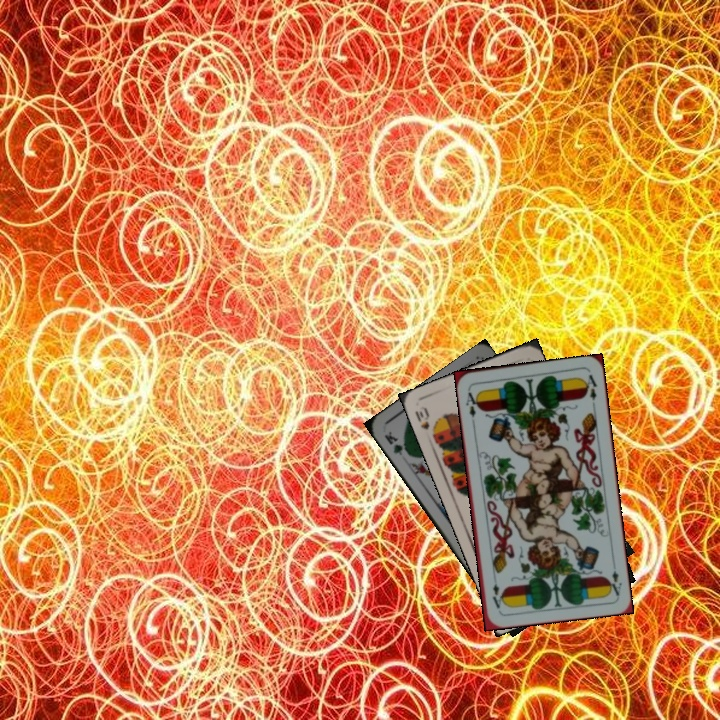EA: (604, 557, 624, 598), (462, 385, 482, 420)
GK: (380, 427, 413, 458)
S10: (411, 402, 439, 441)
